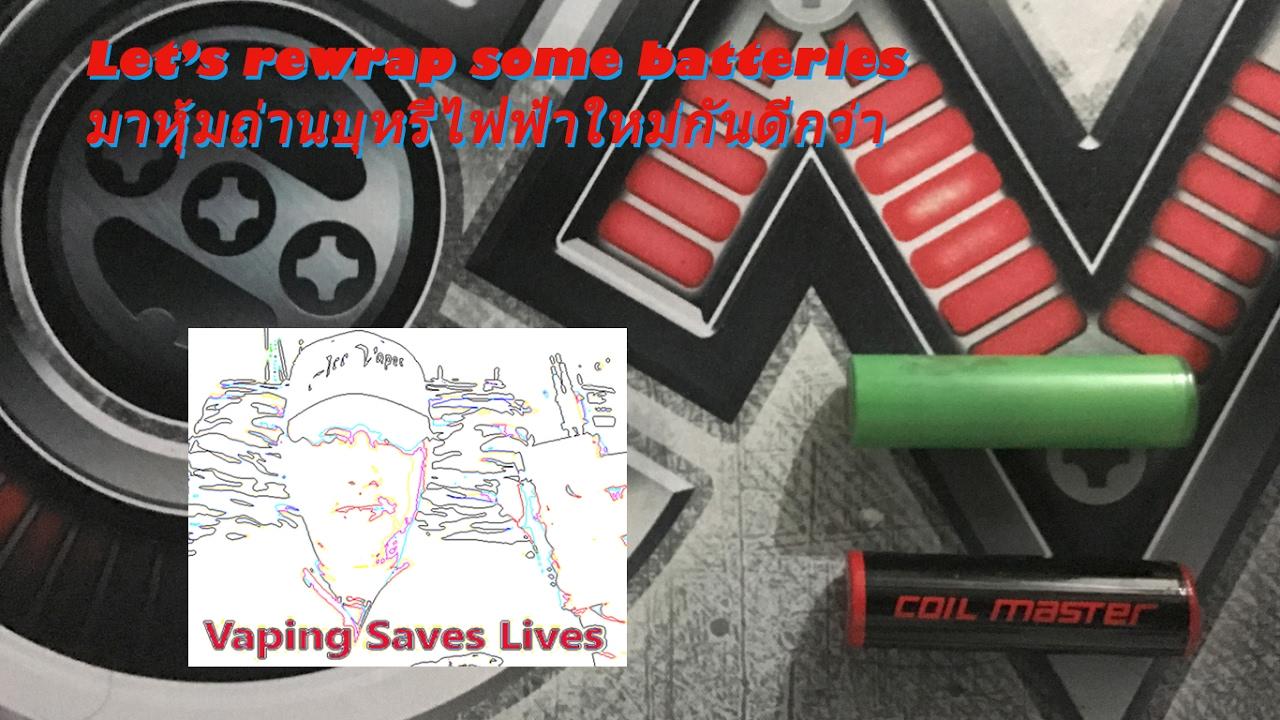Battery: (833, 533, 1204, 660), (836, 339, 1214, 457)
